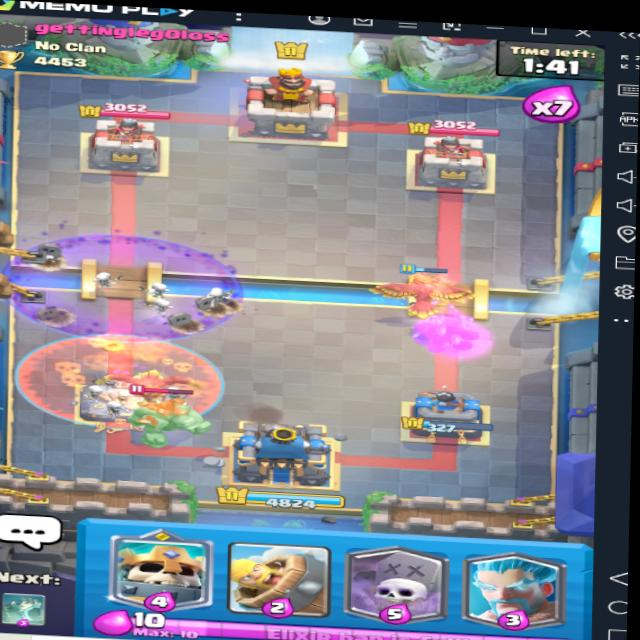Golem: (109, 378, 214, 446)
